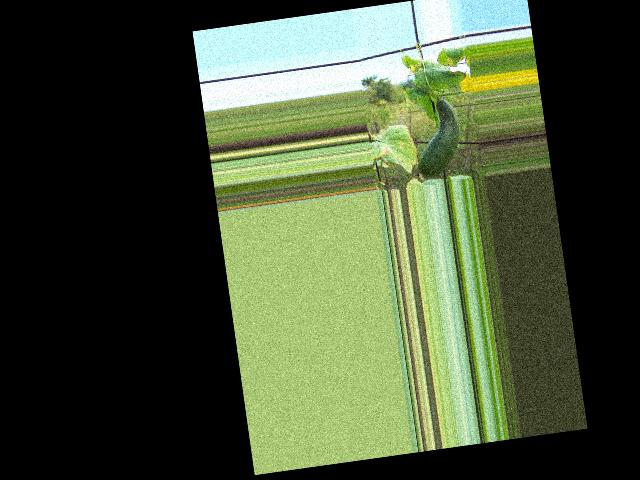cucumber: (408, 96, 465, 179)
